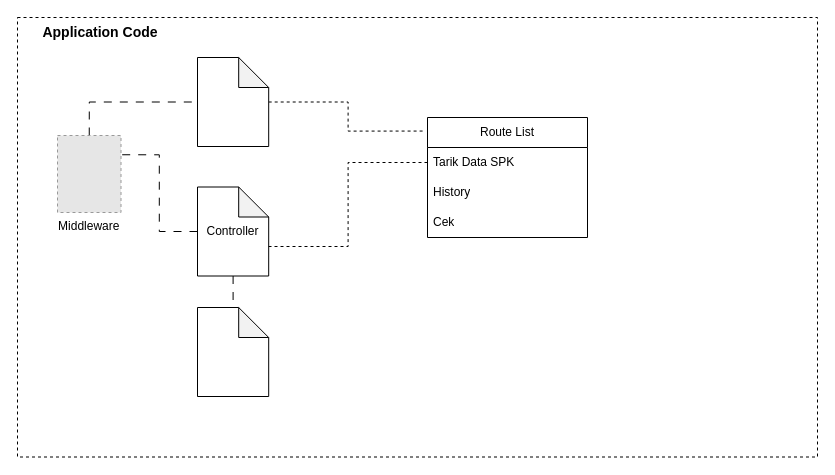
Image size: 835x475. Some labels were removed from this diagram. Grey dashed boxes stand in for pictures. The shapes that lost their labels are listed below. From the top down, each one's centre as x and y in pixels, then its label:
[232,101]: Route
[232,351]: Model
